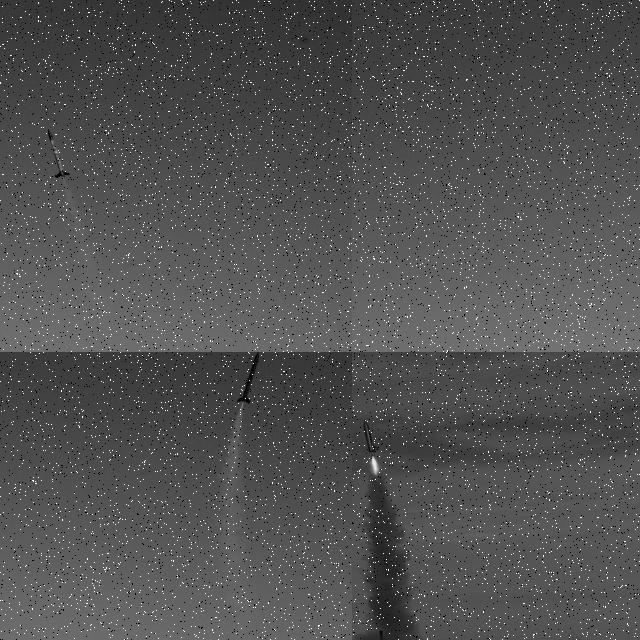Rocket: (47, 129, 71, 179), (236, 352, 259, 404), (361, 419, 380, 454)
